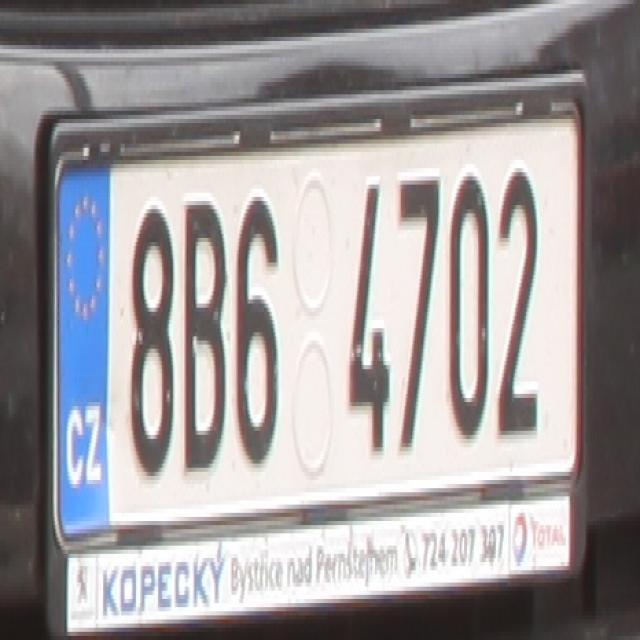0: (446, 168, 492, 443)
2: (496, 164, 541, 439)
4: (348, 180, 392, 456)
6: (234, 180, 282, 456)
7: (395, 172, 441, 460)
8: (128, 197, 174, 472)
B: (180, 197, 227, 472)
